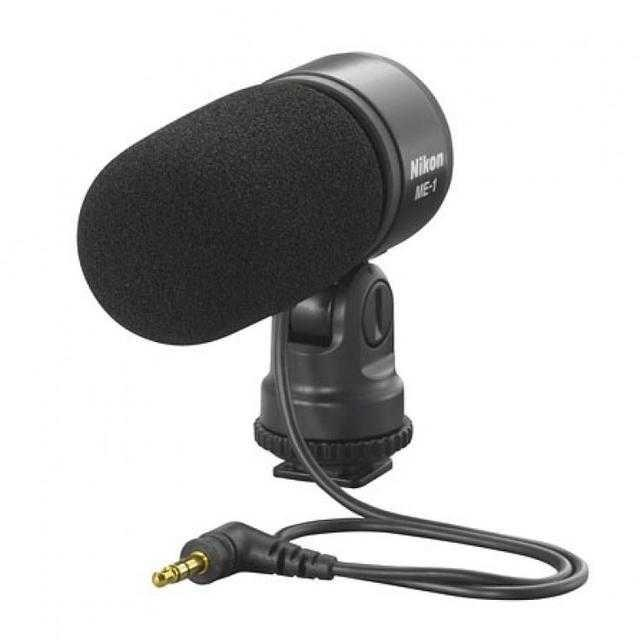microphone: (64, 44, 457, 474)
